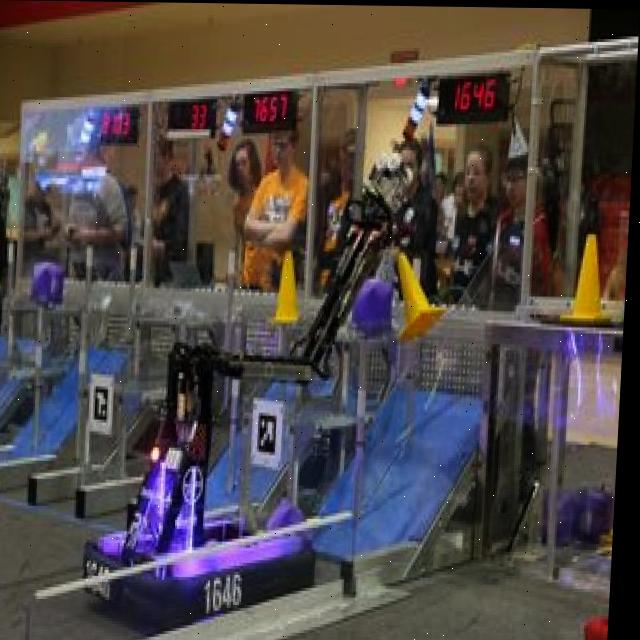robot: (88, 169, 425, 640)
